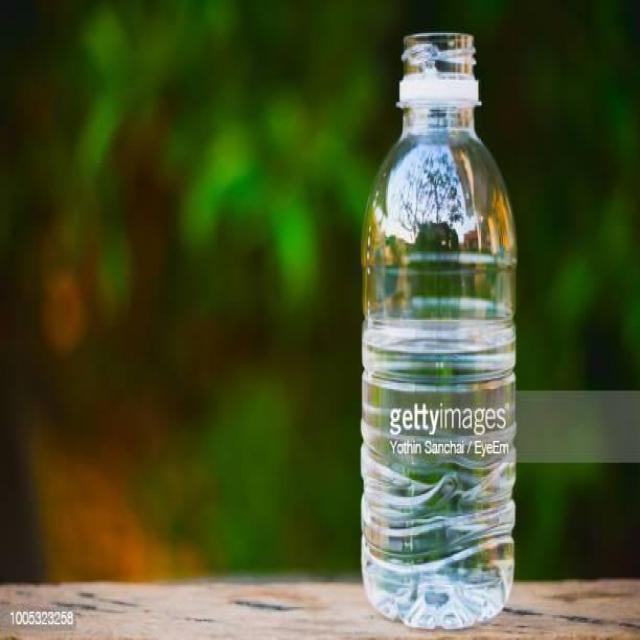bottle: (339, 21, 536, 633)
